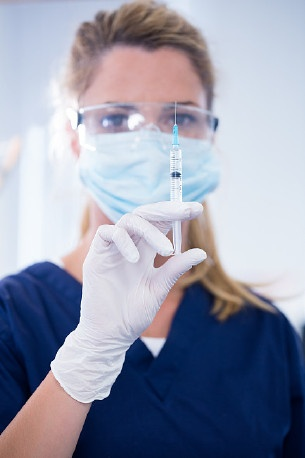Mask: (77, 94, 208, 225)
